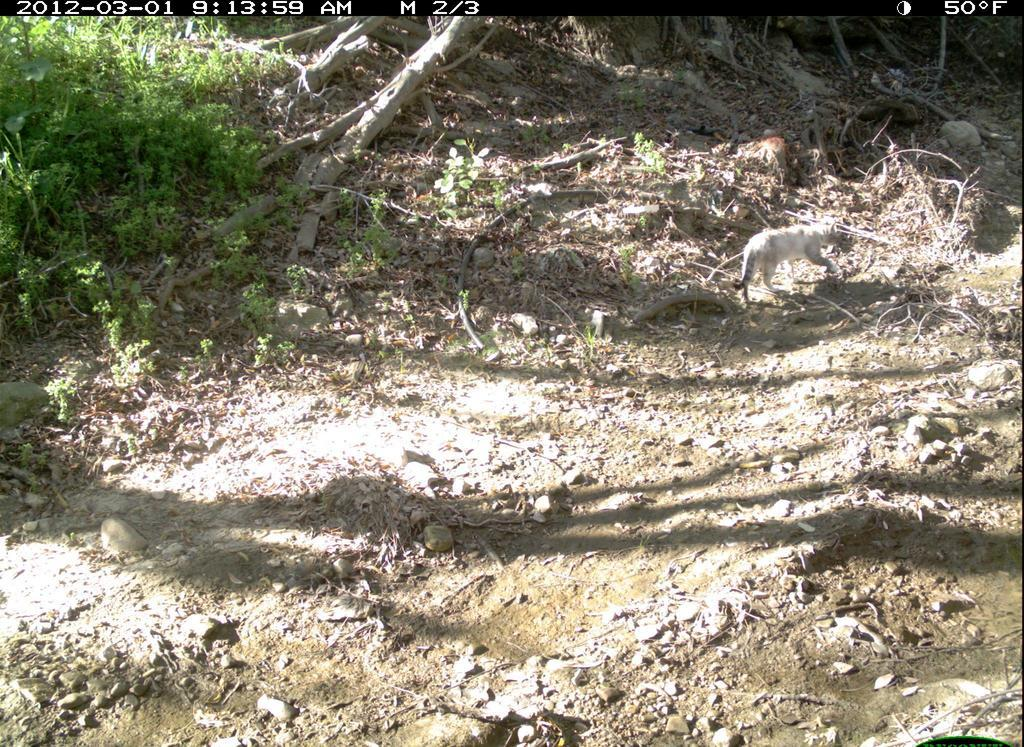cat: (738, 181, 852, 341)
